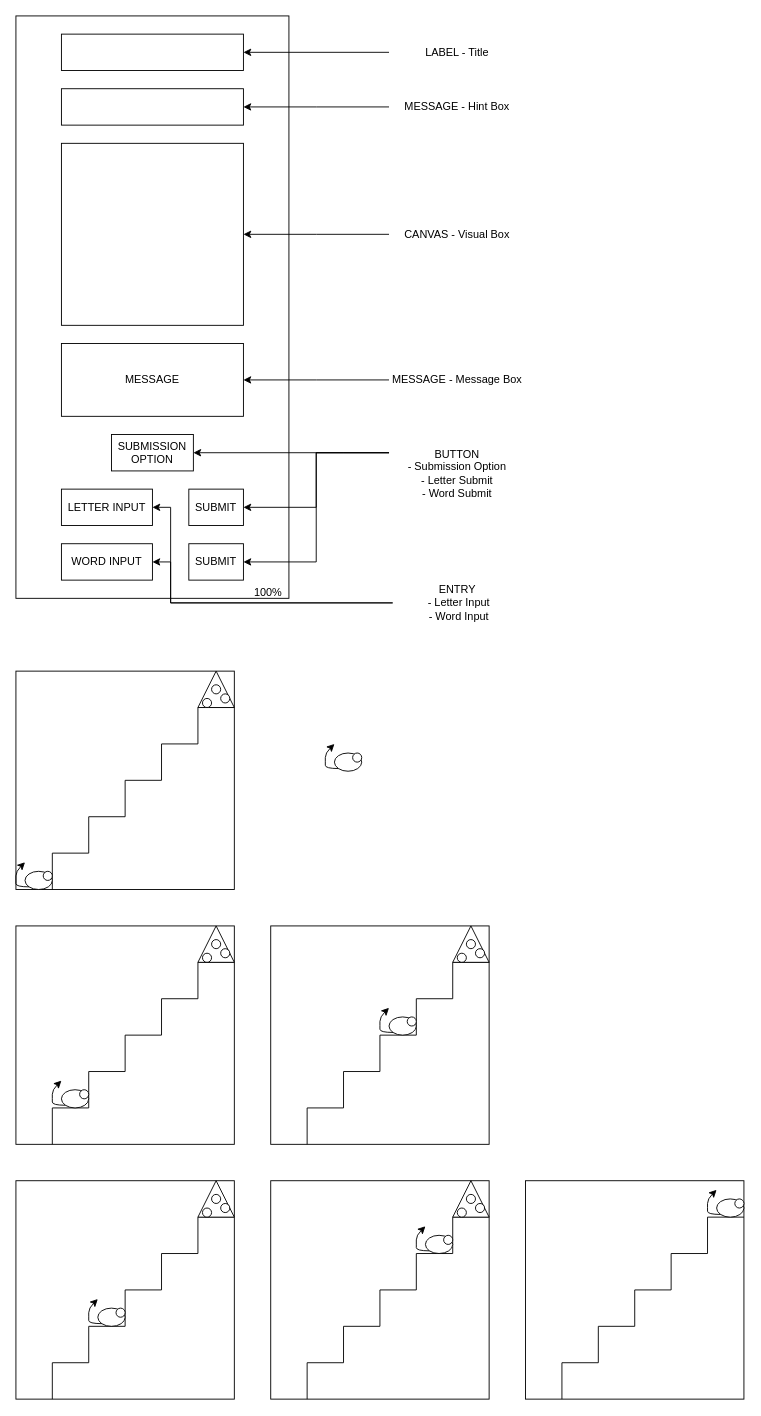
Image size: 761x1416. Some labels were removed from this diagram. The shapes that lost their labels are listed below. From the top down, each one's centre as x and y in pixels, then its label:
the point at 152,52: TITLE
the point at 152,106: HINT
the point at 152,233: VISUAL BOX
